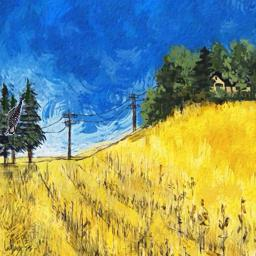Woodpecker: (3, 94, 25, 136)
